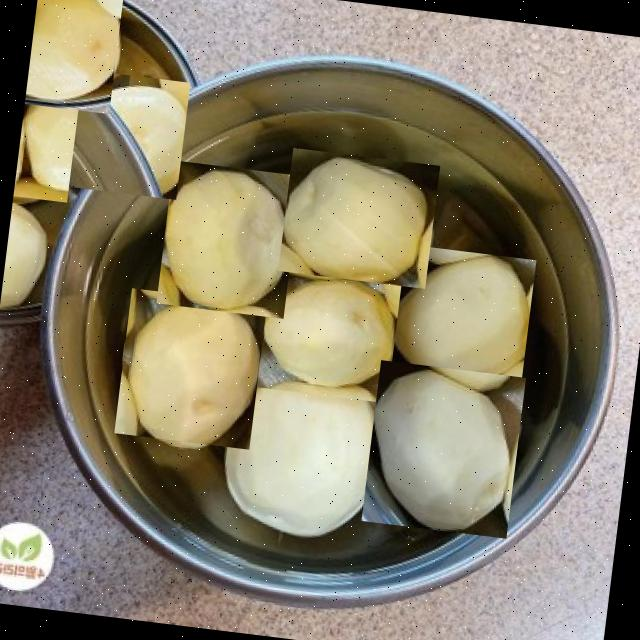Potato: (360, 360, 526, 538), (216, 368, 378, 544), (114, 288, 266, 449), (378, 242, 536, 396), (156, 160, 300, 318), (278, 148, 440, 288), (249, 263, 402, 403), (68, 70, 190, 200), (24, 0, 124, 113), (0, 190, 65, 312), (13, 84, 80, 202)
